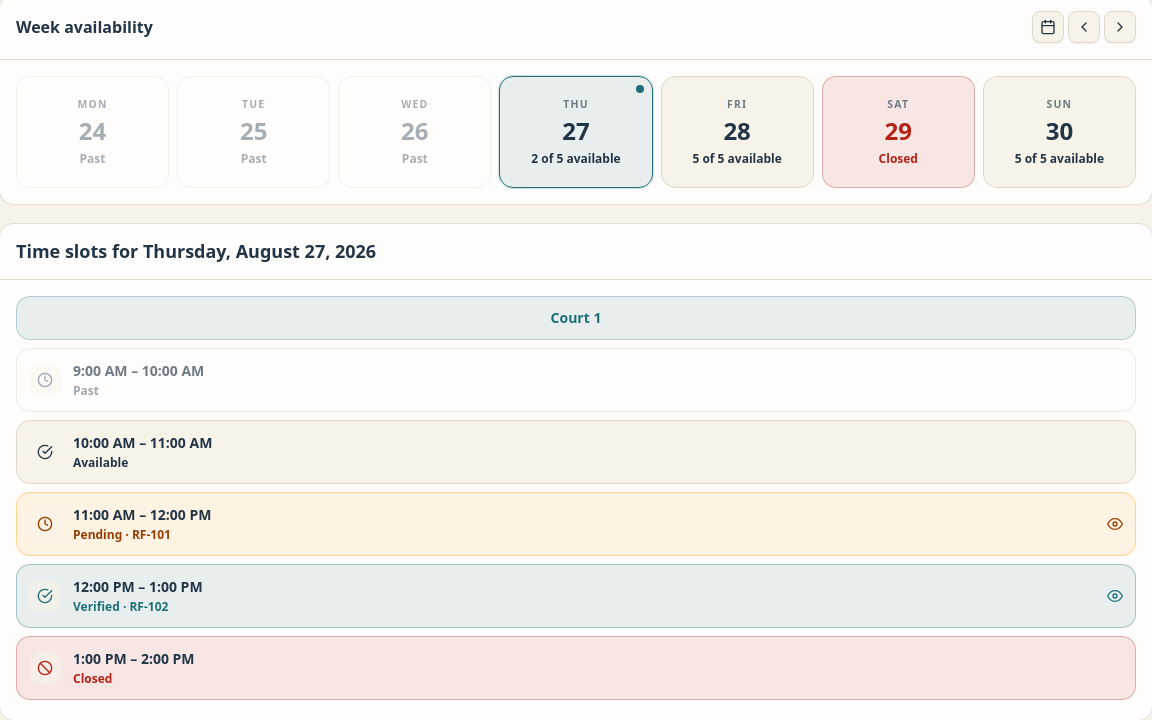
Test: PortalHomeView › keeps Dashboard-only staff views read-only
(page scrolled)
Click the button with aria-label "View pending reservation RF-101" at (45, 524), box [16,492,1136,556]
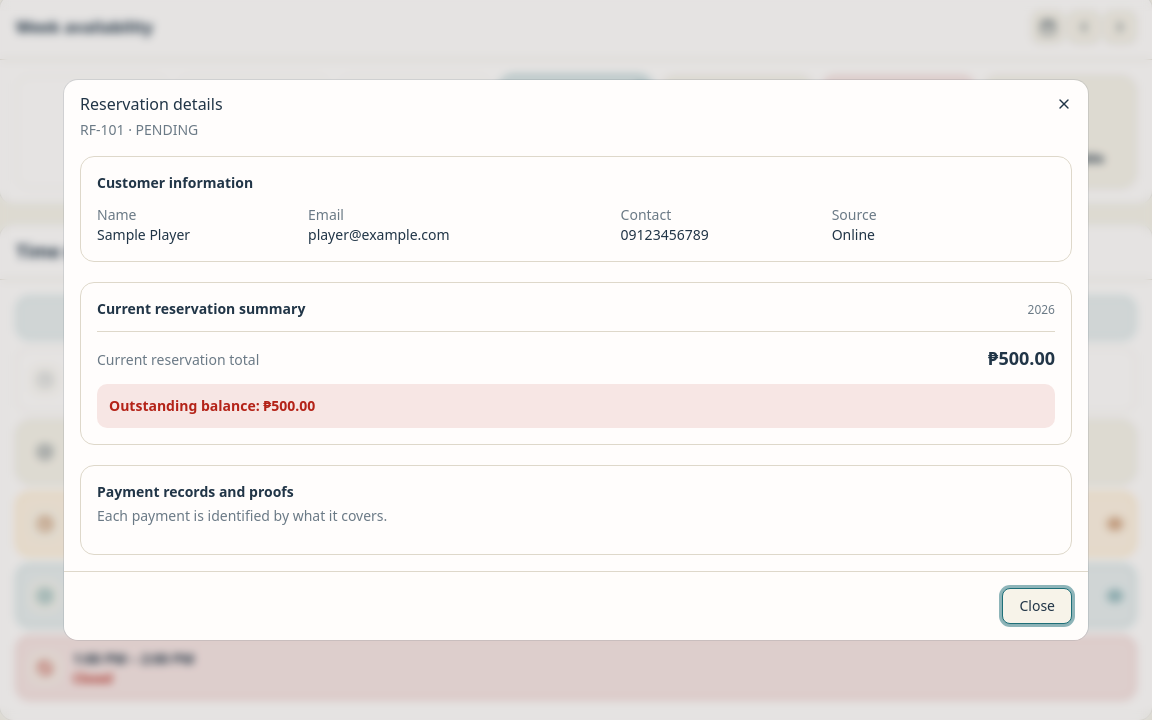
Expected: the heading "Reservation details" is shown, [80,93,222,115]
